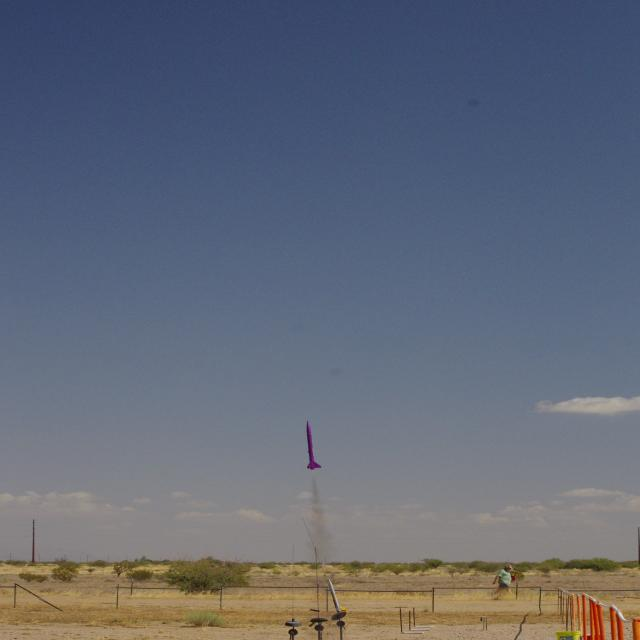Rocket: (306, 420, 322, 471), (328, 578, 346, 612)
